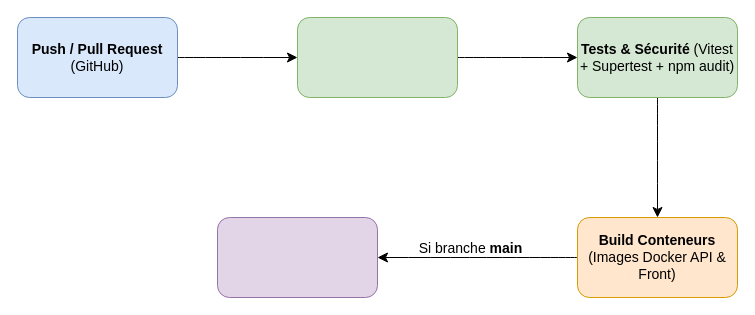
This 755x315 diagram has some shape labels left out. Each missing label, with the centre of its shape:
"Déploiement Continu (Environnement Cloud)" goes at (297,257).
"Installation & Qualité (npm ci + ESLint + TypeScript)" goes at (377,57).
